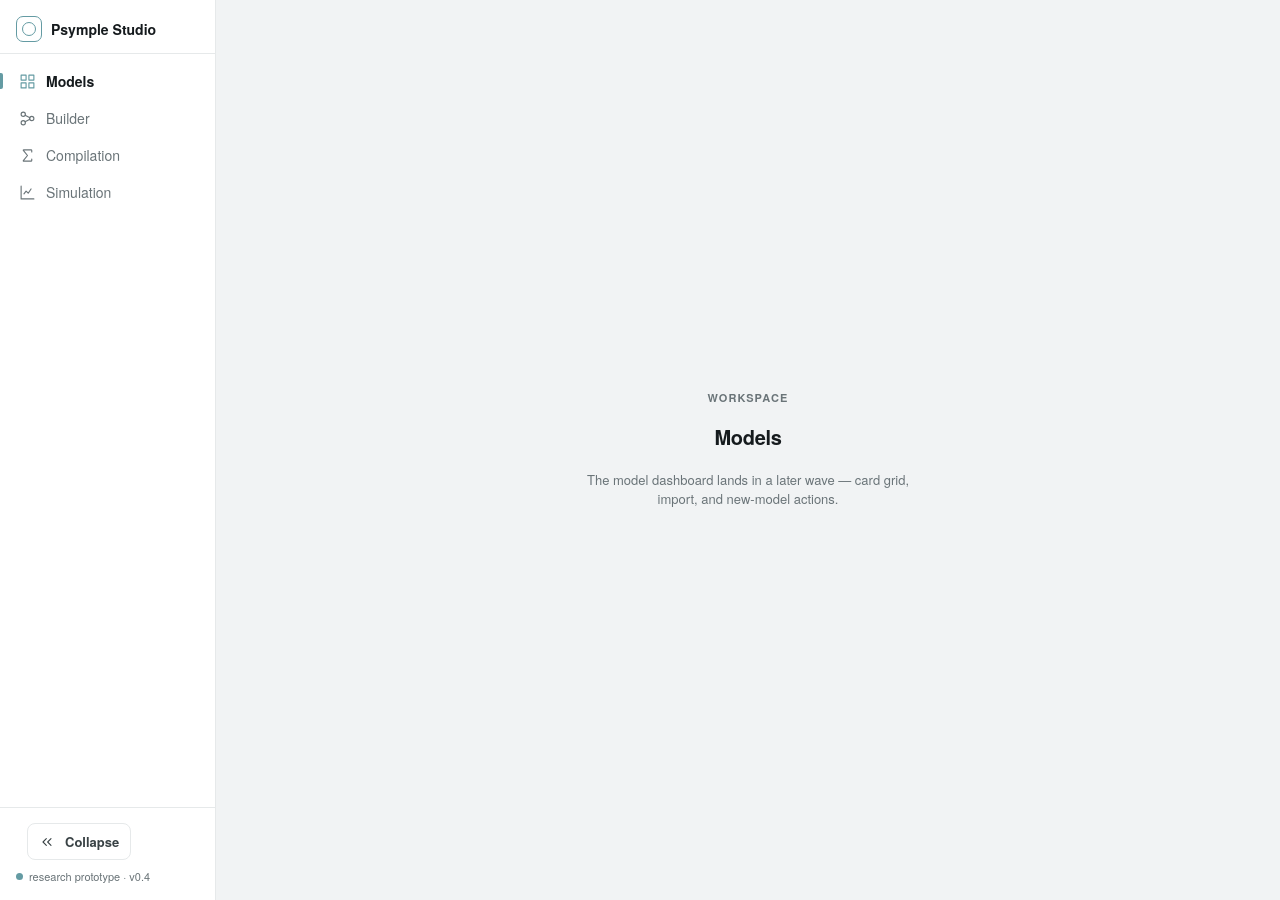
it: AppShell › collapses and expands the rail via the toggle
Click the button titled "Collapse sidebar": click(79, 842) [27, 823, 131, 860]
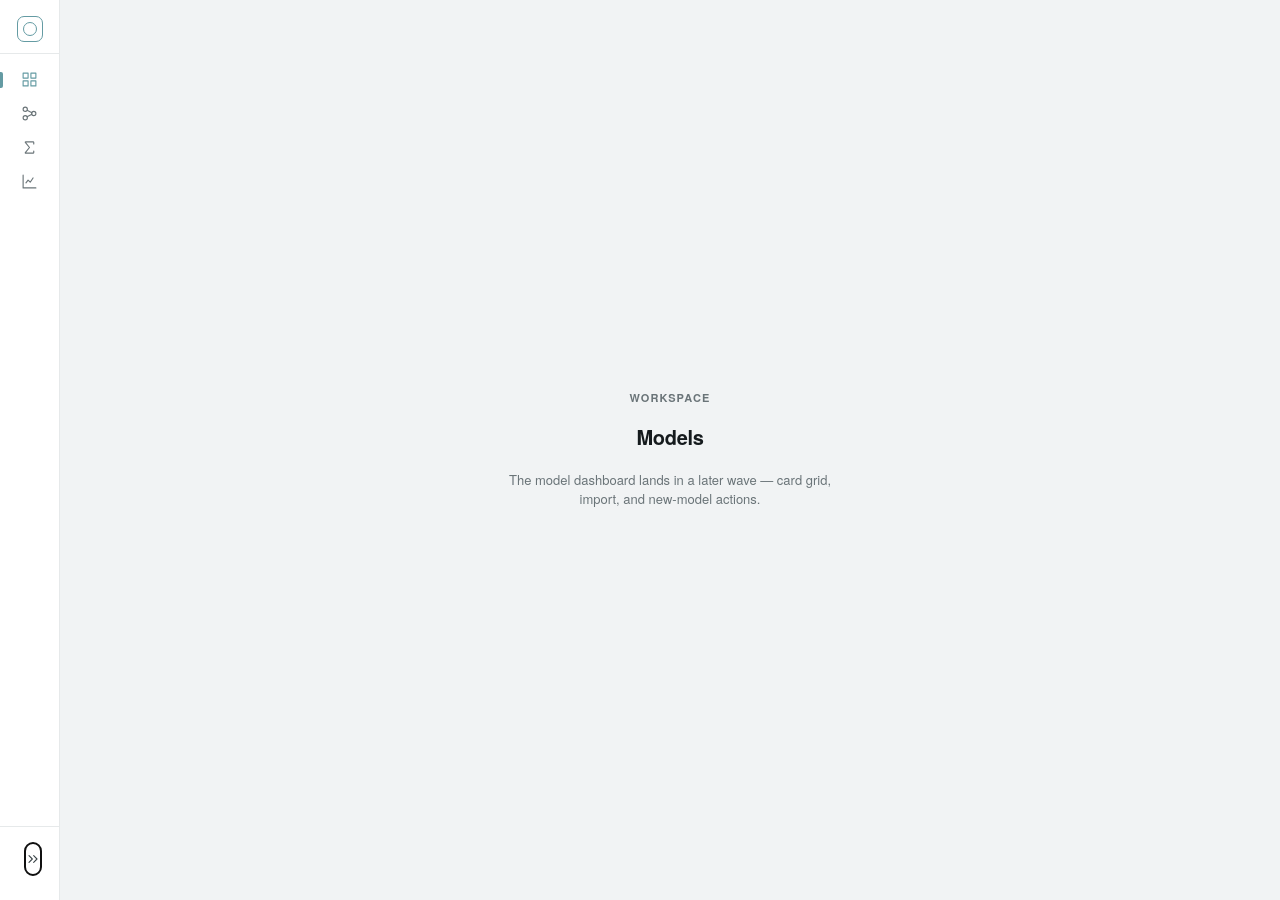
expect the button titled "Expand sidebar" is shown: met, box [24, 842, 42, 876]
